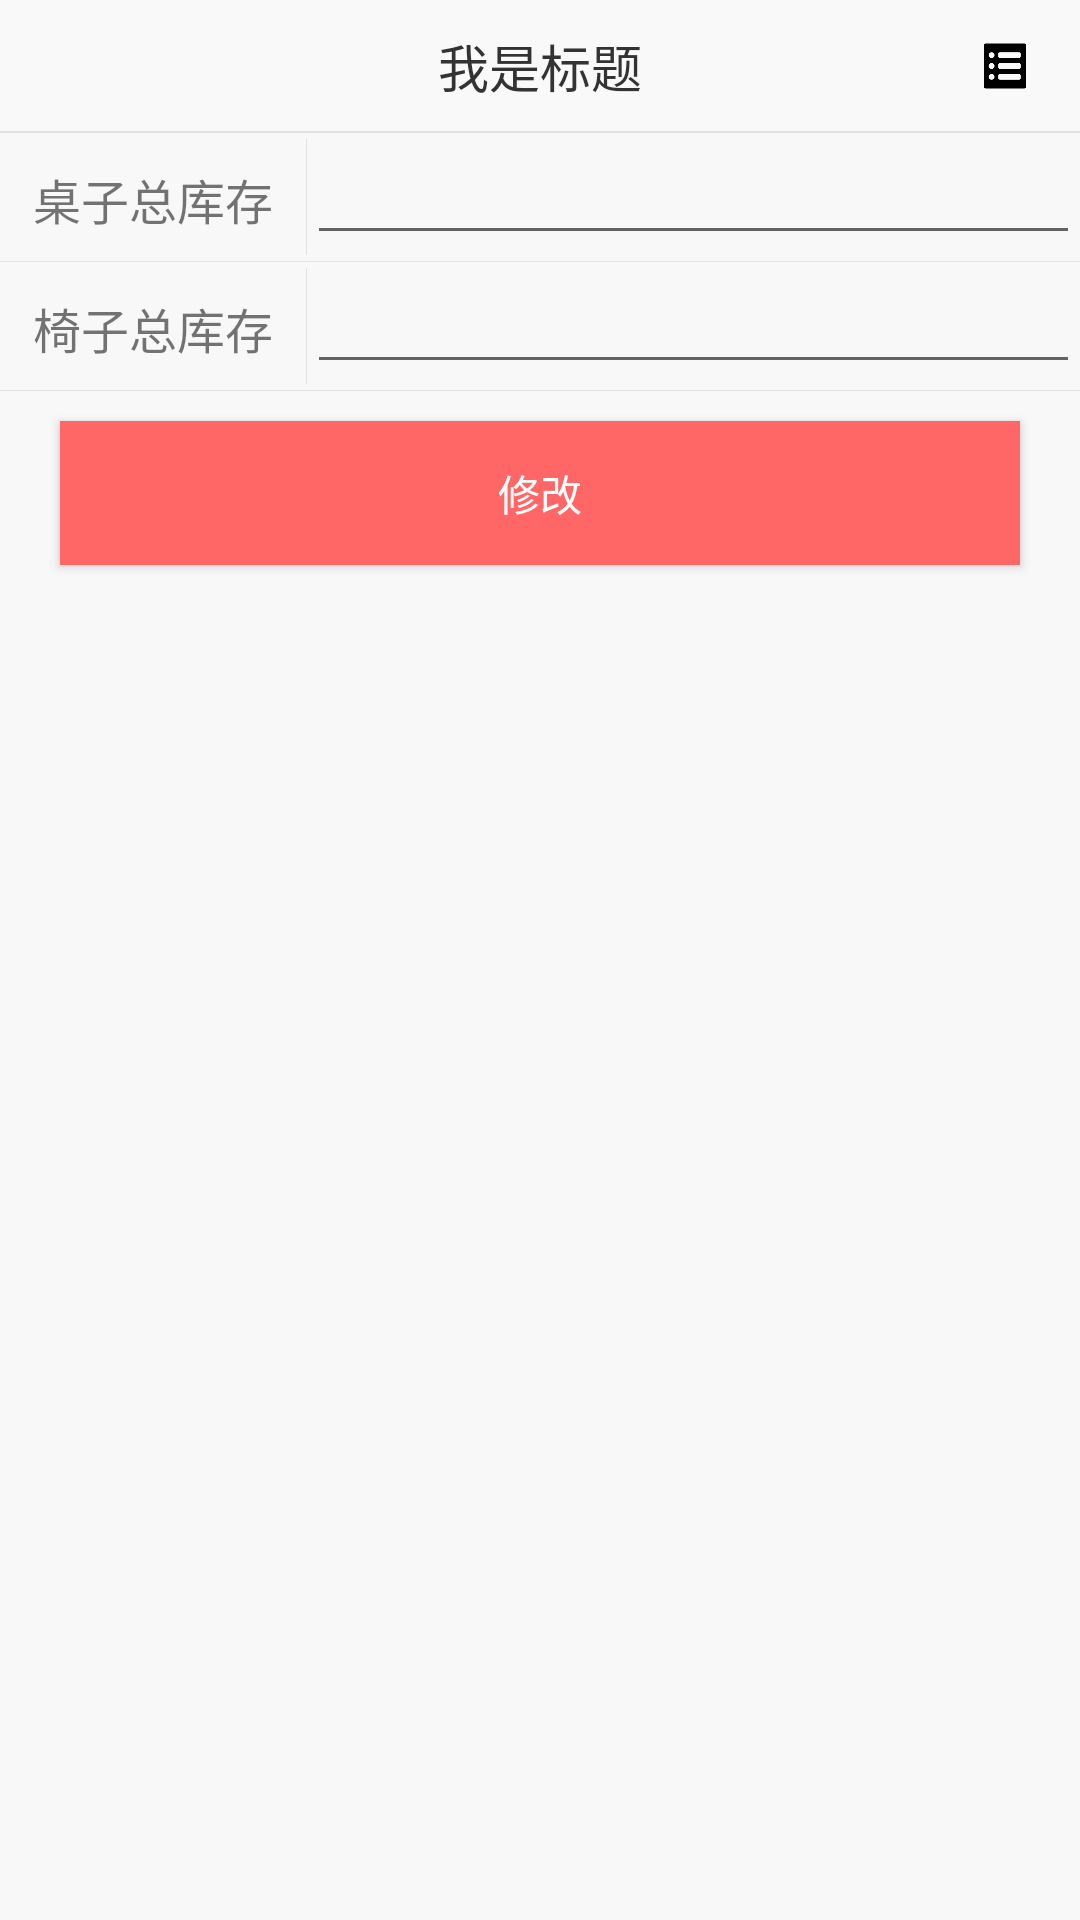

Locate icon controls on the screen. Image size 1080×1920, boxes as detection(x1, y1, x2, y2).
list: detection(984, 43, 1026, 89)
